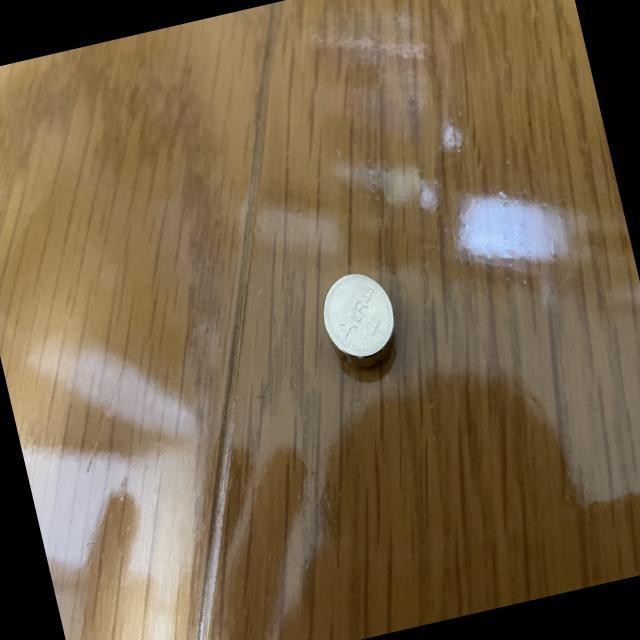COIN: (314, 266, 404, 377)
